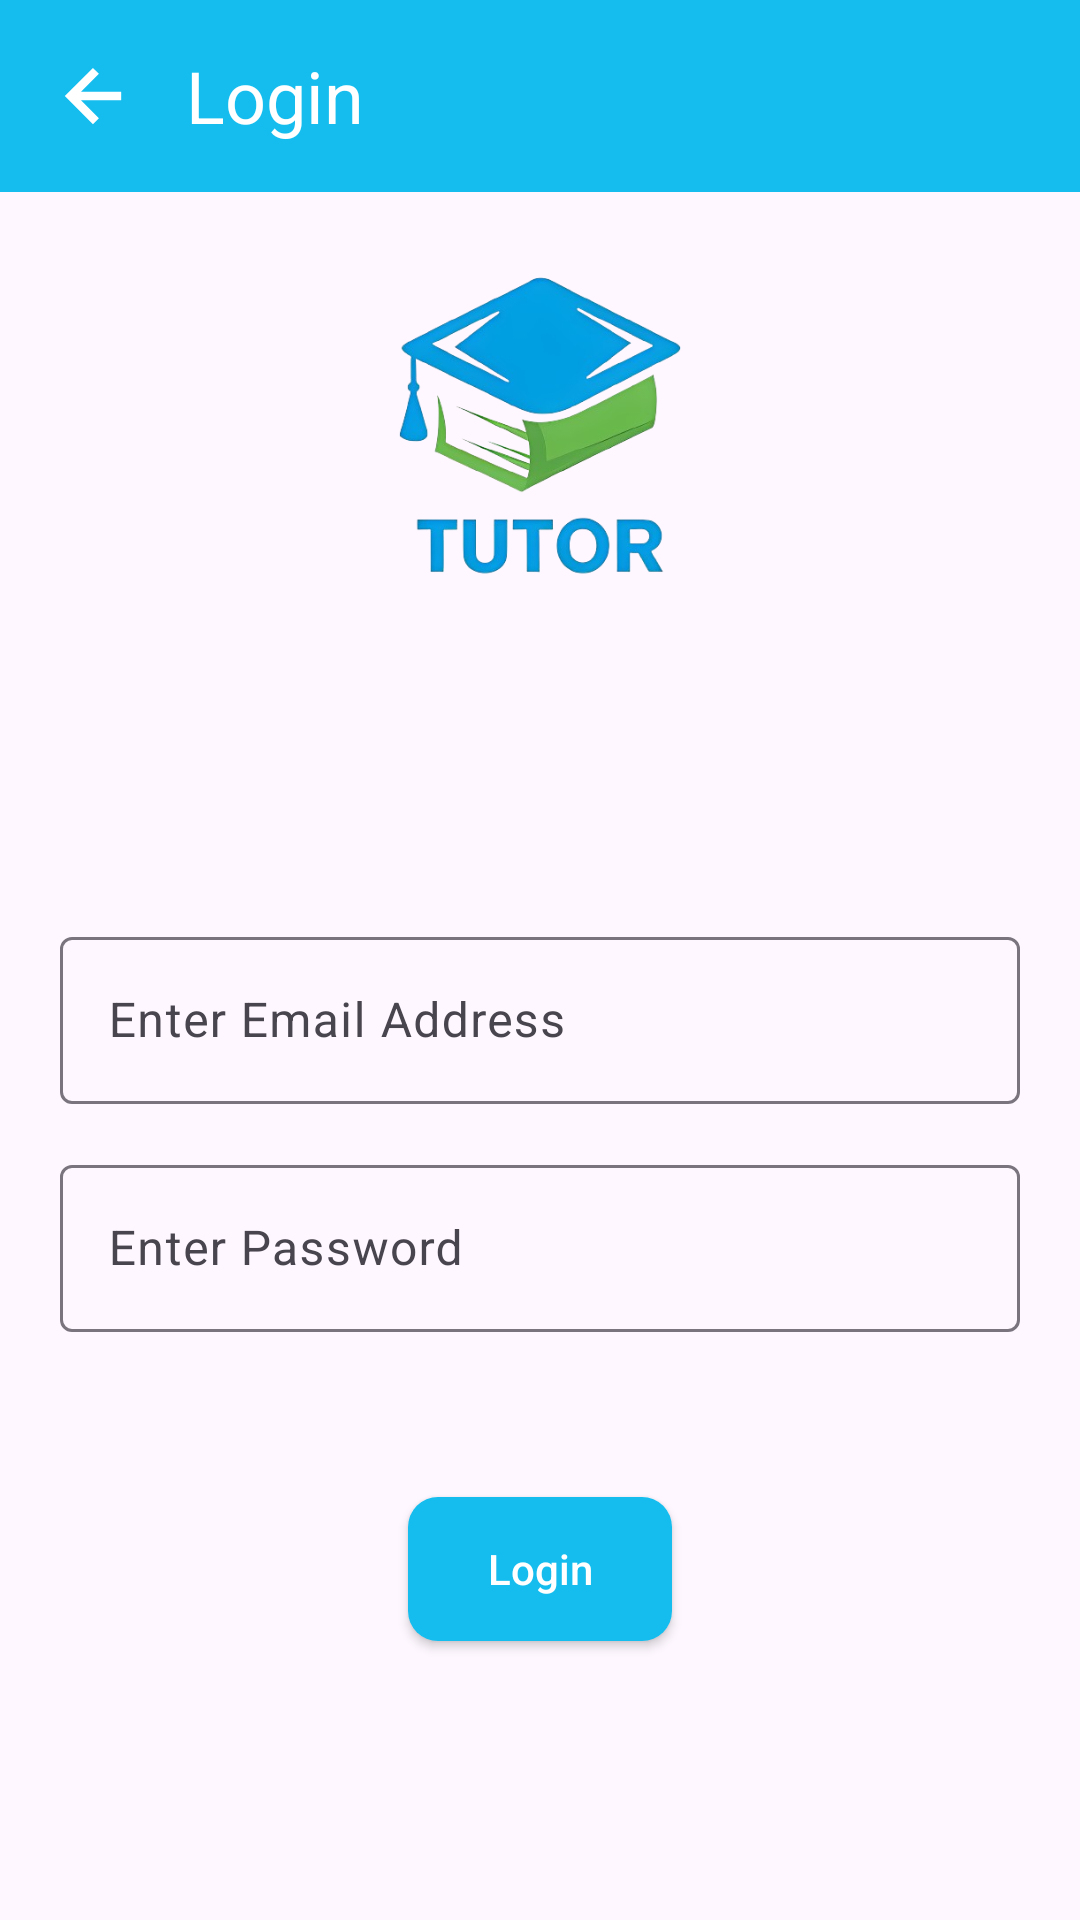

Where to tap for icons on this 1080px×1920px app screen, as (x,y):
back: (93,96)
